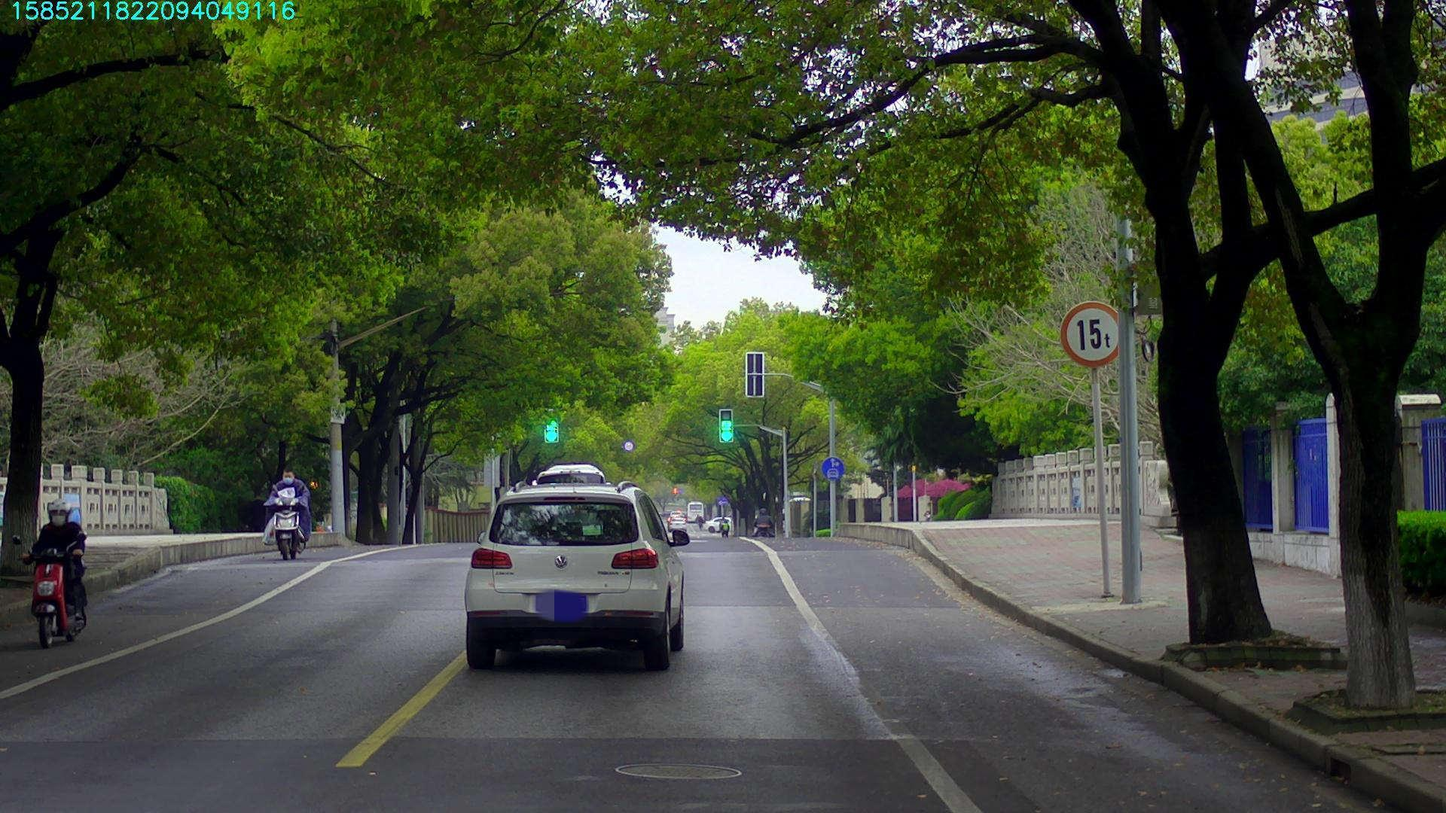green: (719, 410, 733, 441), (544, 418, 557, 443)
